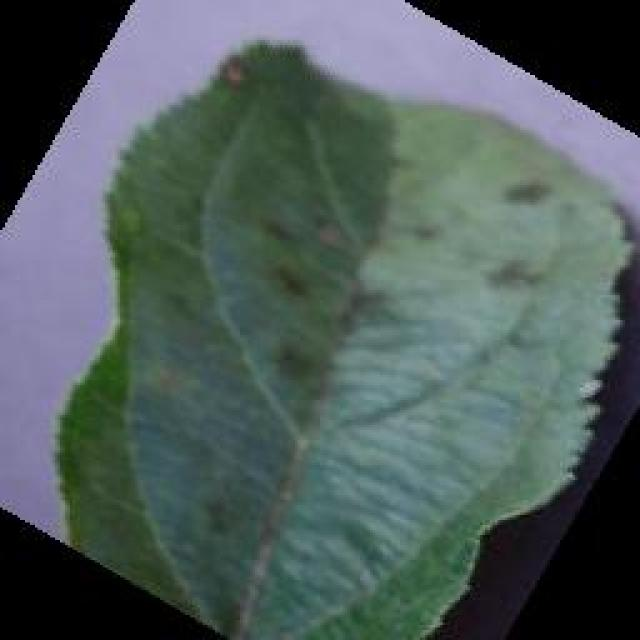apple scab disease: (50, 35, 638, 637)
